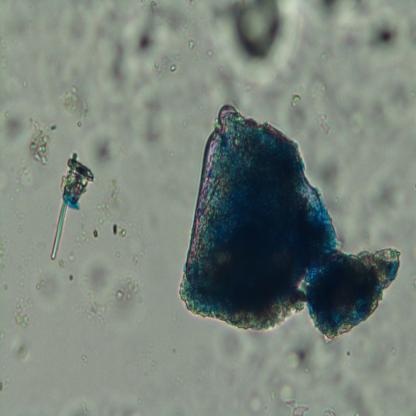Background material: (94, 0, 190, 98), (207, 0, 294, 69), (47, 140, 93, 263), (348, 172, 402, 247), (310, 149, 365, 206), (283, 73, 328, 139), (99, 175, 138, 242), (376, 74, 412, 146), (320, 369, 375, 416), (364, 7, 410, 60), (85, 255, 119, 314), (338, 78, 370, 140), (21, 118, 57, 168), (67, 395, 147, 416), (312, 0, 371, 28), (270, 373, 307, 416), (276, 334, 319, 371), (7, 295, 28, 362), (145, 99, 170, 155), (215, 327, 253, 362), (62, 77, 87, 128), (85, 130, 115, 172), (32, 266, 62, 304), (117, 288, 143, 326), (240, 395, 272, 416), (1, 111, 25, 138), (316, 399, 336, 416)
Fragment: (173, 98, 402, 344)
